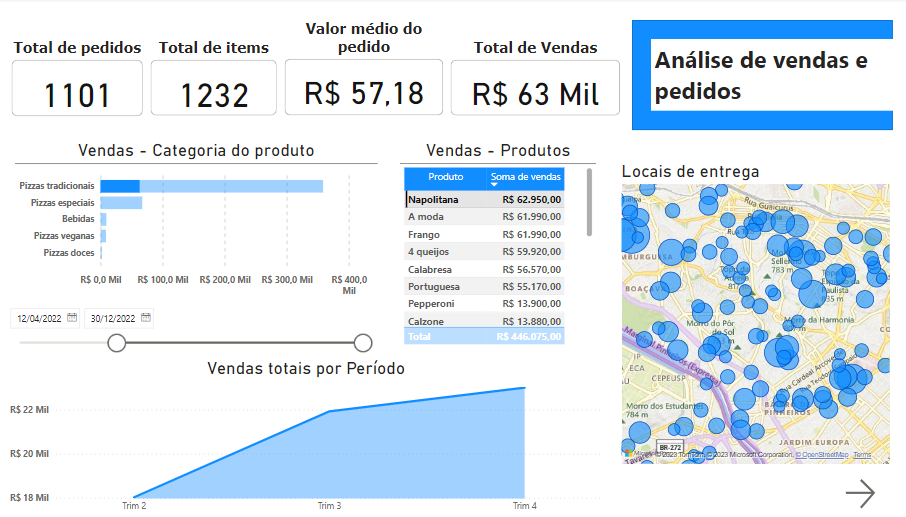

What the dashboard file says about the page in this screenshot:
{"tool":"powerbi","page":{"name":"Pagina 1 - Pedidos","canvas":[1280,720],"ordinal":0},"visuals":[{"type":"shape","box":[882.6,30.6,360.4,151.6],"z":0},{"type":"cardVisual","title":"Total de pedidos","fields":{"Data":["Count(result_query1.order_id)"]},"box":[20.8,55.6,191.8,114],"z":1000},{"type":"cardVisual","title":"Total de Vendas","fields":{"Data":["Sum(result_query1.item_price)"]},"box":[626.8,55.6,244.6,112.6],"z":2000},{"type":"cardVisual","title":"Total de items","fields":{"Data":["Sum(result_query1.quantity)"]},"box":[212.6,55.6,184.8,112.6],"z":3000},{"type":"cardVisual","title":"Valor médio do pedido","fields":{"Data":["result_query1.Medida"]},"box":[397.5,29.2,229.3,139],"z":4000},{"type":"clusteredBarChart","title":"Vendas - Categoria do produto","fields":{"Category":["result_query1.item_cat"],"Y":["Sum(result_query1.item_price)"]},"box":[30.6,196.1,500.5,222.9],"z":5000},{"type":"tableEx","title":"Vendas - Produtos","fields":{"Values":["result_query1.item_name","Sum(result_query1.item_price)"]},"box":[561.5,196,271,286.3],"z":6000},{"type":"stackedAreaChart","title":"Vendas totais por Período","fields":{"Category":["result_query1.created_at.Variation.Hierarquia de datas.Trimestre","result_query1.created_at.Variation.Hierarquia de datas.Mês","result_query1.created_at.Variation.Hierarquia de datas.Dia"],"Y":["Sum(result_query1.item_price)"]},"box":[18.3,496.8,828.9,223.2],"z":7000},{"type":"map","title":"Locais de entrega","fields":{"Size":["Sum(result_query1.cust_id)"],"Category":["result_query1.delivery_zipcode"]},"box":[863.5,225.4,379.5,422.8],"z":8000},{"type":"slicer","fields":{"Values":["result_query1.created_at"]},"box":[10.4,419,520.8,78.3],"z":9000},{"type":"textbox","box":[908.1,56,335,99.3],"z":10000},{"type":"actionButton","box":[1170.5,658.5,84.1,52.2],"z":11000}]}

Visuals, with their boxes in screenshot pixels (x1, y1, x2, y2), scaled from the page's 1280x720 canvas onto the 906x517 screenshot:
shape: {"left": 625, "top": 22, "right": 880, "bottom": 131}
"Total de pedidos" cardVisual: {"left": 15, "top": 40, "right": 150, "bottom": 122}
"Total de Vendas" cardVisual: {"left": 444, "top": 40, "right": 617, "bottom": 121}
"Total de items" cardVisual: {"left": 150, "top": 40, "right": 281, "bottom": 121}
"Valor médio do pedido" cardVisual: {"left": 281, "top": 21, "right": 444, "bottom": 121}
"Vendas - Categoria do produto" clusteredBarChart: {"left": 22, "top": 141, "right": 376, "bottom": 301}
"Vendas - Produtos" tableEx: {"left": 397, "top": 141, "right": 589, "bottom": 346}
"Vendas totais por Período" stackedAreaChart: {"left": 13, "top": 357, "right": 600, "bottom": 516}
"Locais de entrega" map: {"left": 611, "top": 162, "right": 880, "bottom": 465}
slicer - result_query1.created_at: {"left": 7, "top": 301, "right": 376, "bottom": 357}
textbox: {"left": 643, "top": 40, "right": 880, "bottom": 112}
actionButton: {"left": 828, "top": 473, "right": 888, "bottom": 510}
